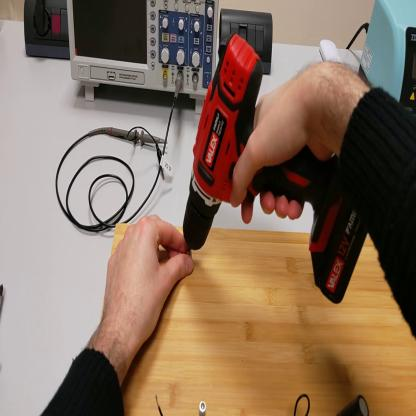electric screwdriver: (183, 34, 369, 306)
hand: (232, 64, 336, 221), (101, 216, 192, 351)
high voltage board: (154, 389, 371, 413)
oscilloscope: (68, 3, 221, 116)
oscilloscope probe tip: (104, 123, 169, 152)
screwdriver-: (1, 285, 5, 316)
socket: (22, 1, 73, 62)
welder station: (359, 3, 416, 112)
working area: (111, 223, 416, 415)
